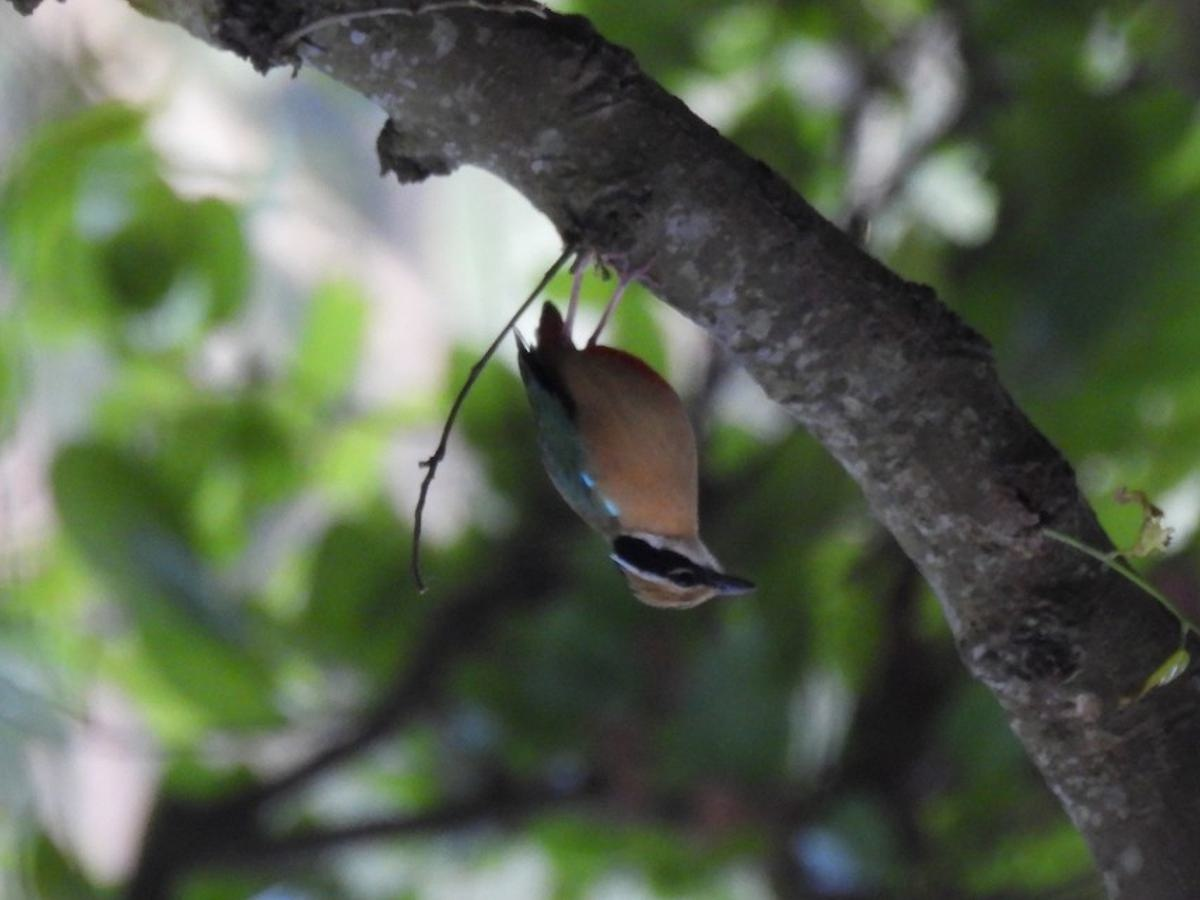pitta: (486, 196, 773, 665)
